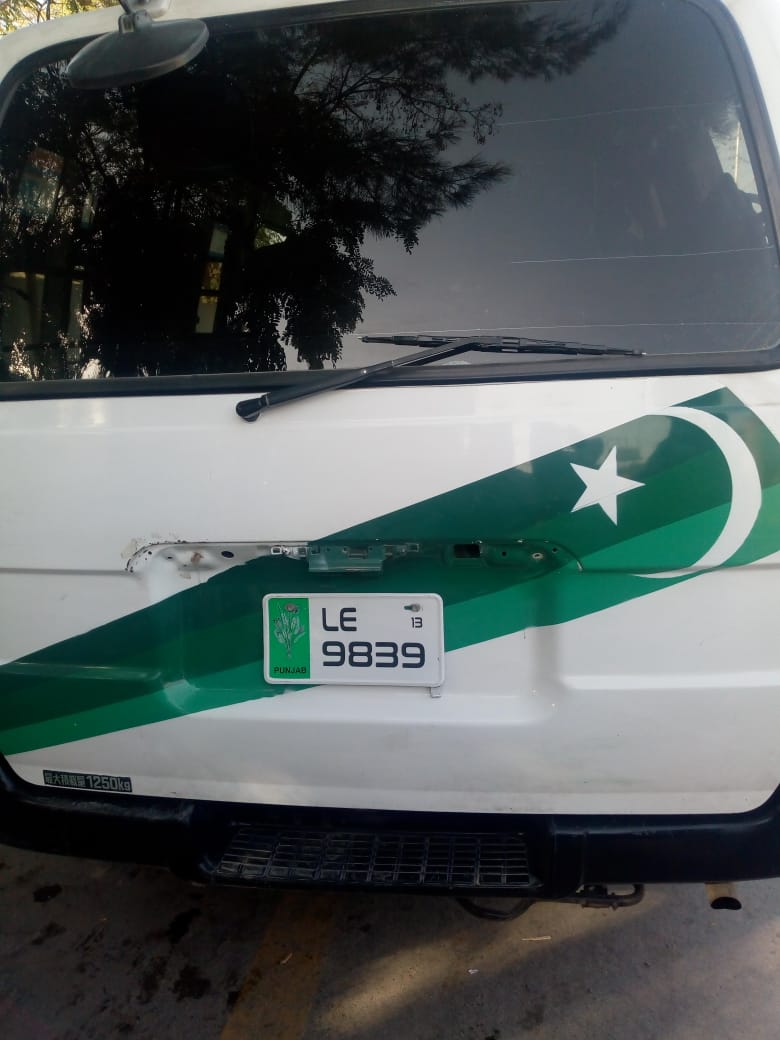license plate: (262, 595, 444, 687)
